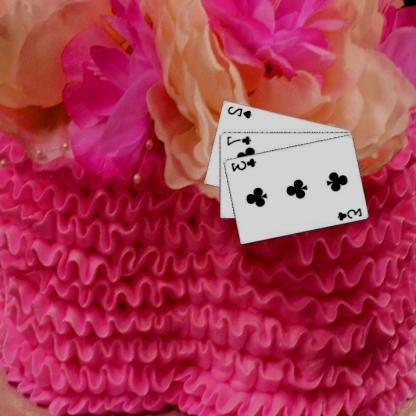2S: (226, 104, 254, 119)
3C: (230, 156, 259, 172), (336, 206, 364, 222)
7C: (226, 134, 253, 146)
